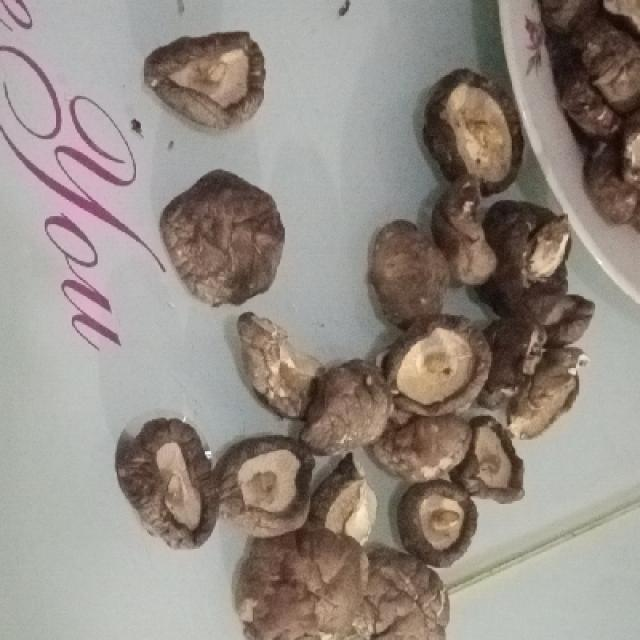Lentinus edodes: (240, 532, 457, 640), (165, 169, 286, 305), (125, 415, 216, 550), (143, 28, 264, 128), (429, 67, 521, 191), (386, 313, 488, 419), (303, 354, 392, 469), (218, 434, 315, 531), (374, 218, 449, 330), (245, 309, 318, 422), (382, 415, 469, 486), (409, 477, 472, 565), (314, 457, 370, 547), (471, 420, 528, 500)
